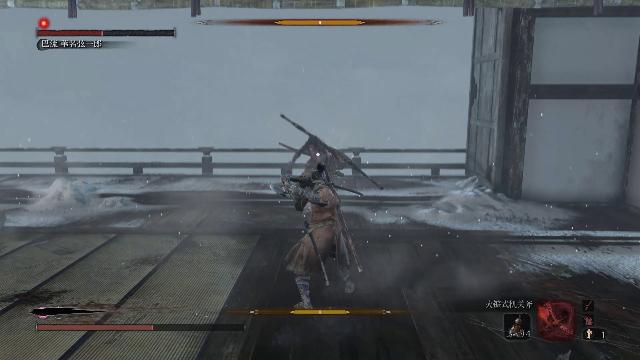sk: (273, 160, 356, 322)
